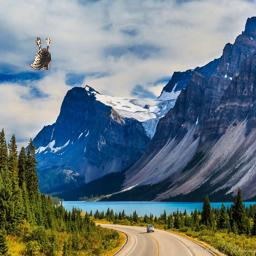Sparrow: (29, 37, 51, 70)
